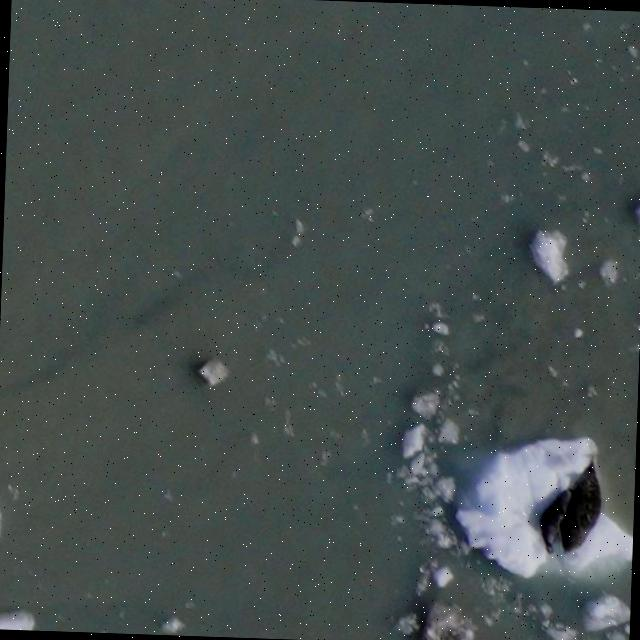seal: (555, 450, 610, 558), (526, 477, 579, 557)
